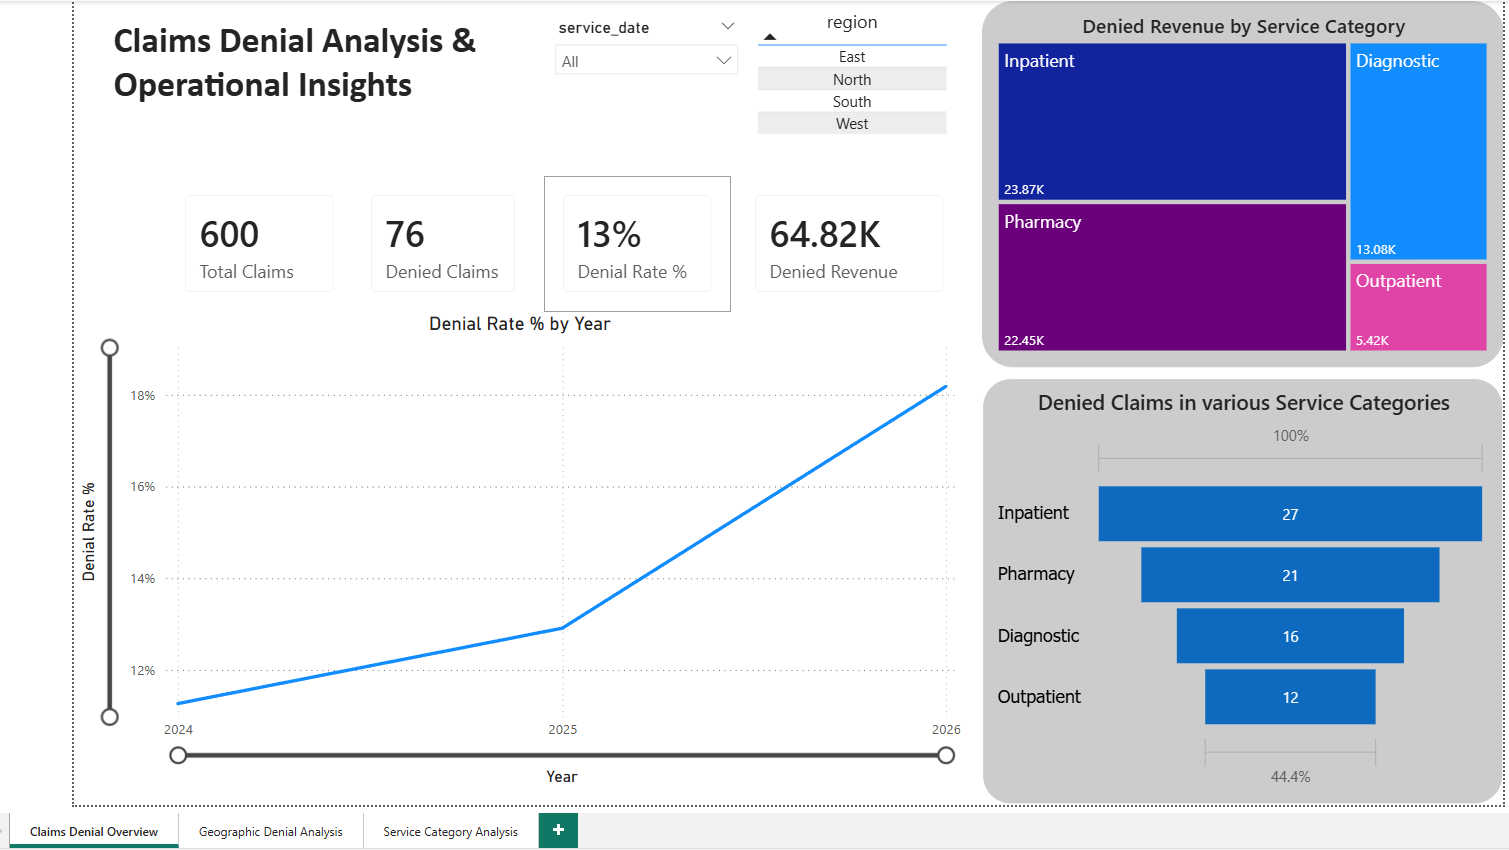

This screenshot's page, from the dashboard's own definition file:
{"tool":"powerbi","page":{"name":"Claims Denial Overview","canvas":[1280,720],"ordinal":0},"visuals":[{"type":"cardVisual","fields":{"Data":["vw_claims_clean.Total Claims"]},"box":[82.1,156.9,167.3,121.6],"z":0},{"type":"cardVisual","fields":{"Data":["denial_reasons.Denied Claims"]},"box":[249.4,156.9,163.1,121.6],"z":1000},{"type":"cardVisual","fields":{"Data":["denial_reasons.Denied Revenue"]},"box":[593.2,156.9,203.6,121.6],"z":2000},{"type":"cardVisual","fields":{"Data":["denial_reasons.Denial Rate %"]},"box":[420.8,156.9,167.3,121.6],"z":3000},{"type":"treemap","title":"Denied Revenue by Service Category","fields":{"Group":["vw_claims_clean.service_category"],"Values":["denial_reasons.Denied Revenue"]},"box":[813.1,0,466.9,328.4],"z":4000},{"type":"slicer","fields":{"Values":["vw_claims_clean.service_date"]},"box":[420.8,10.4,183.9,146.5],"z":5000},{"type":"lineChart","fields":{"Category":["vw_claims_clean.service_date.Variation.Date Hierarchy.Year","vw_claims_clean.service_date.Variation.Date Hierarchy.Quarter","vw_claims_clean.service_date.Variation.Date Hierarchy.Month","vw_claims_clean.service_date.Variation.Date Hierarchy.Day"],"Y":["denial_reasons.Denial Rate %"]},"box":[0,278.2,798.8,428.7],"z":6000},{"type":"funnel","title":"Denied Claims in various Service Categories","fields":{"Category":["vw_claims_clean.service_category"],"Y":["denial_reasons.Denied Claims"]},"box":[813.1,337.9,466.9,382.1],"z":7000},{"type":"tableEx","fields":{"Values":["vw_claims_clean.region"]},"box":[605.7,0,191.2,156.9],"z":8000},{"type":"textbox","box":[30.1,10.4,382.3,116.4],"z":9000}]}

Visuals, with their boxes on the page's 1280x720 design canvas (x1, y1, x2, y2). These are canvas units, not pixel positions in the 1509x850 screenshot, which may show the page scaled, cropped or inside an application window:
cardVisual - vw_claims_clean.Total Claims: 82, 157, 249, 278
cardVisual - denial_reasons.Denied Claims: 249, 157, 412, 278
cardVisual - denial_reasons.Denied Revenue: 593, 157, 797, 278
cardVisual - denial_reasons.Denial Rate %: 421, 157, 588, 278
"Denied Revenue by Service Category" treemap: 813, 0, 1280, 328
slicer - vw_claims_clean.service_date: 421, 10, 605, 157
lineChart - vw_claims_clean.service_date.Variation.Date Hierarchy.Year x vw_claims_clean.service_date.Variation.Date Hierarchy.Quarter: 0, 278, 799, 707
"Denied Claims in various Service Categories" funnel: 813, 338, 1280, 720
tableEx - vw_claims_clean.region: 606, 0, 797, 157
textbox: 30, 10, 412, 127
